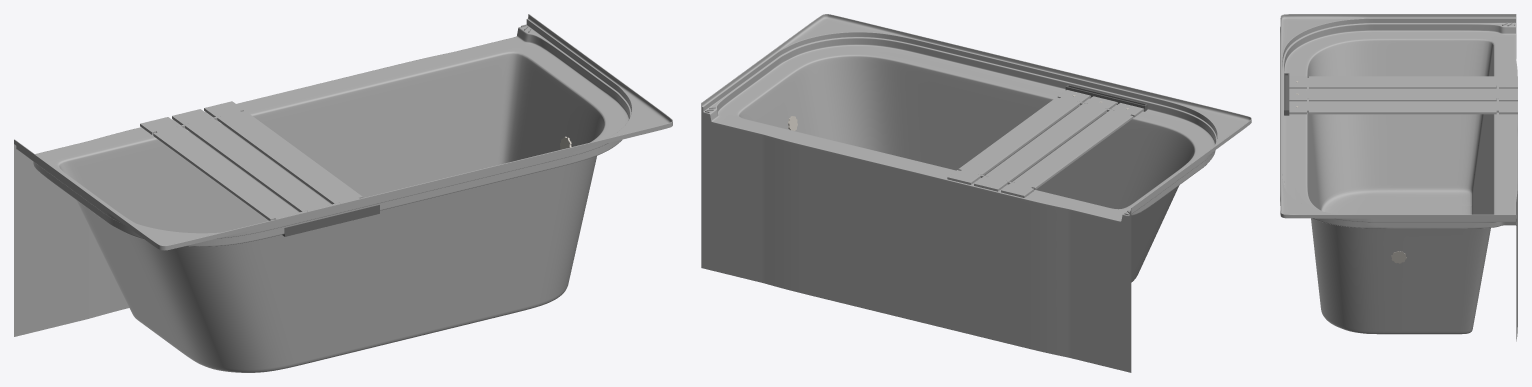
The model's file is Bathtub_004.gltf.
3 views of the same model, side by side, from view 1: azimuth 30°, elevation 25°; view 2: azimuth 150°, elevation 25°; view 3: azimuth 270°, elevation 25° (orthographic). The views are drawn at different scales.
Visible parts, largest first — view 1: Bathtub_004; view 2: Bathtub_004; view 3: Bathtub_004.
Boxes of the visible parts, <box> form: Bathtub_004: <box>14,14,672,372</box>; Bathtub_004: <box>701,14,1251,372</box>; Bathtub_004: <box>1280,14,1517,341</box>.
Size of the model in its own units: 0.6 by 0.22 by 0.3.
1 material, 1 textured.
